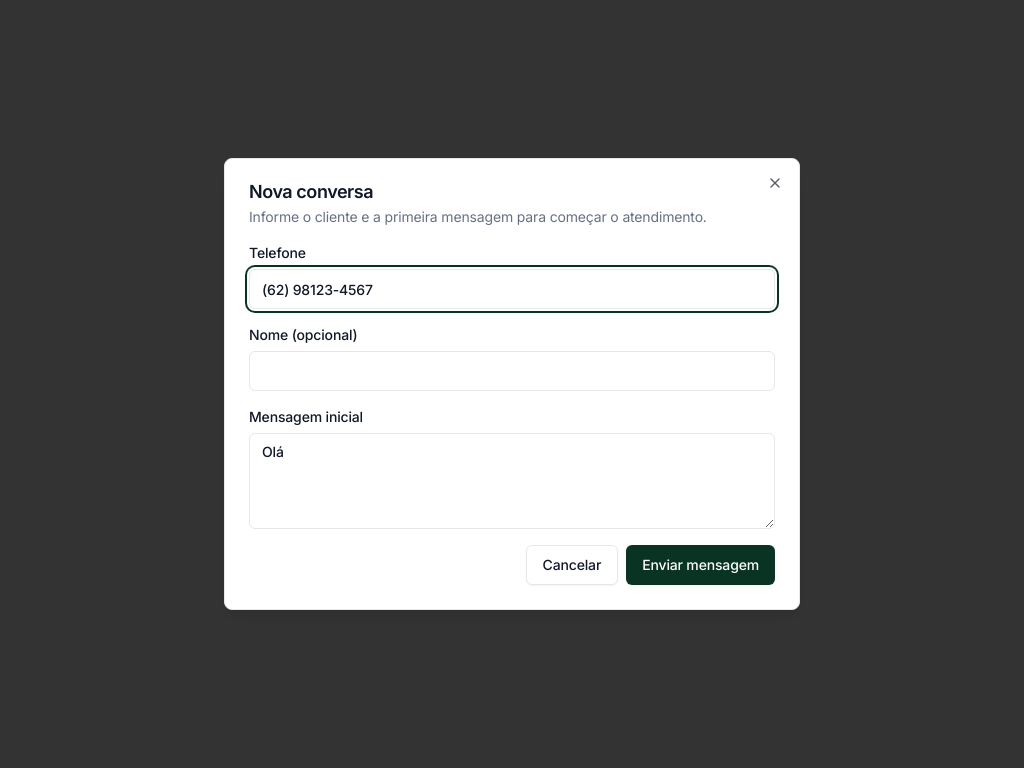
Test: depois de um envio sem confirmação, pergunta antes e só reenvia com um request_id novo
Earlier steps of the test are not shown.
Later steps or results of the test are not shown.
Click the button "Enviar mensagem" at (701, 565), box [626,545,775,585]
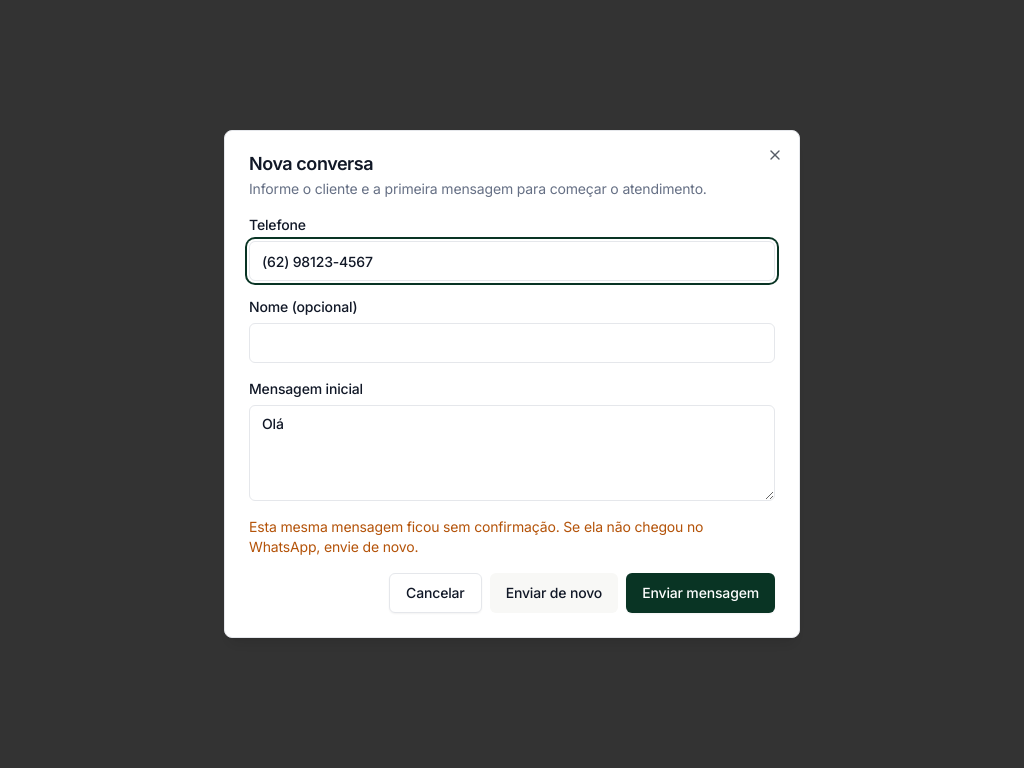
Check: the message shows "ficou sem confirmação", box [249,518,703,555]
